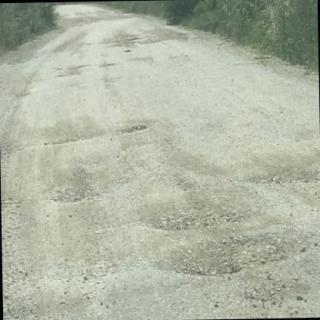pothole: (157, 230, 308, 275), (137, 200, 251, 231), (45, 123, 149, 146), (42, 165, 103, 203), (241, 169, 320, 185)
